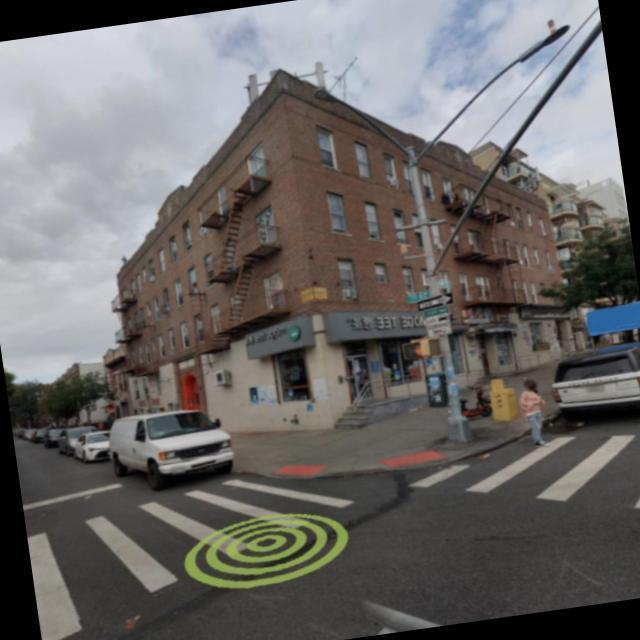off: (489, 14, 628, 125)
